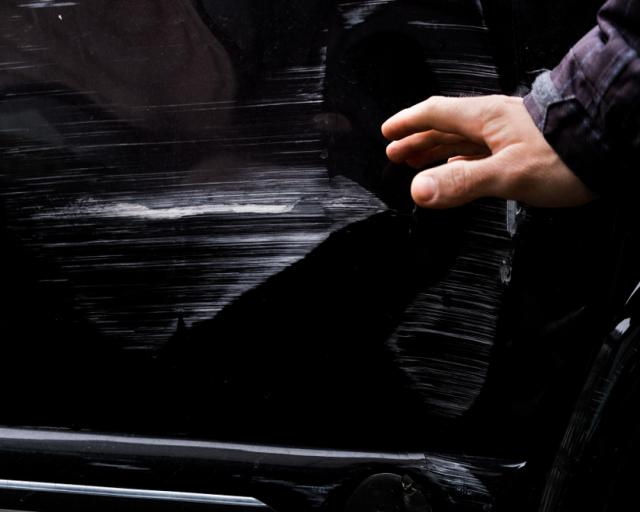scratch: (394, 199, 521, 419), (413, 0, 497, 89), (424, 452, 496, 505)
